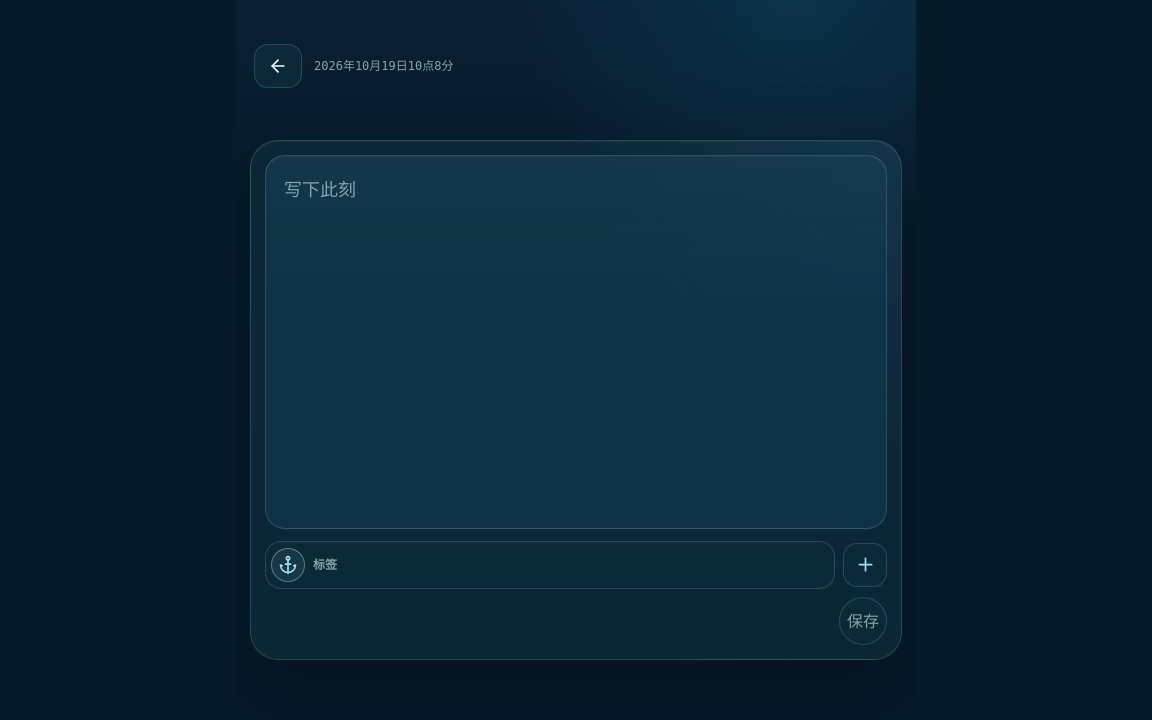
Scenario: Now simulated input integration › explicit clear choice 继续编辑 preserves or clears the draft
The width and height of the screenshot is (1152, 720).
Type "今天主动澄清会议目标，讨论更聚焦。" into the text box named "此刻发生了什么？" at (576, 342), box [284,174,868,510]
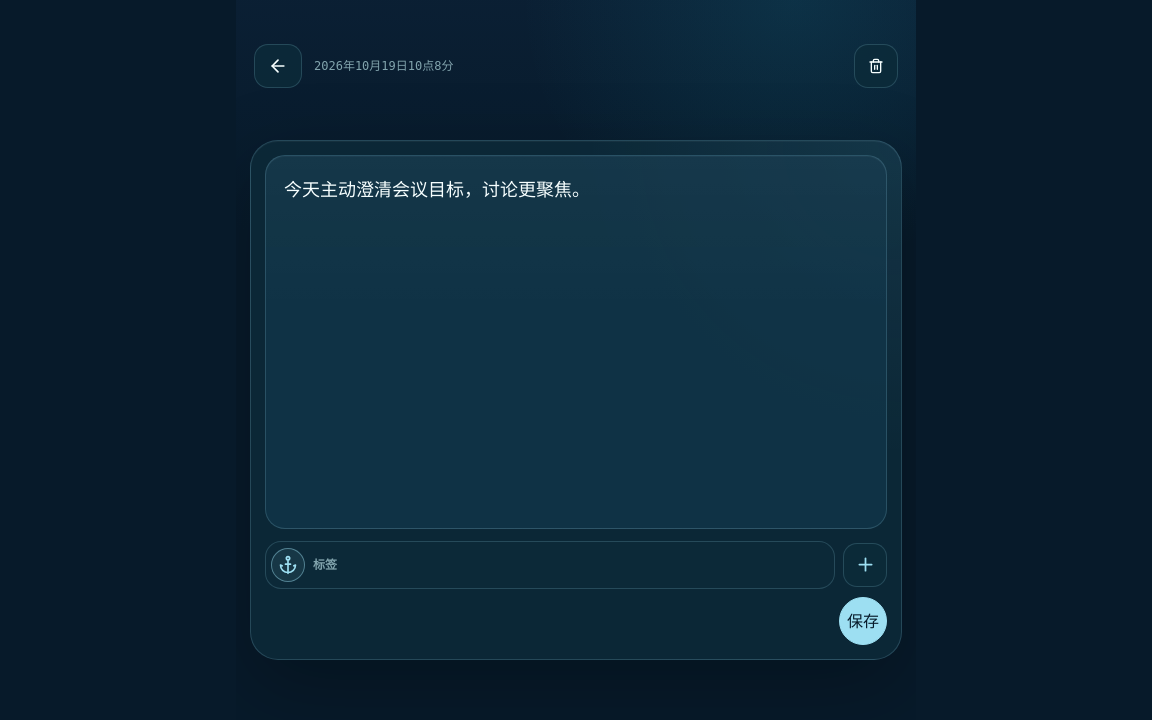
Click the button with aria-label "心情与事件" at (288, 565), box [265,541,835,589]
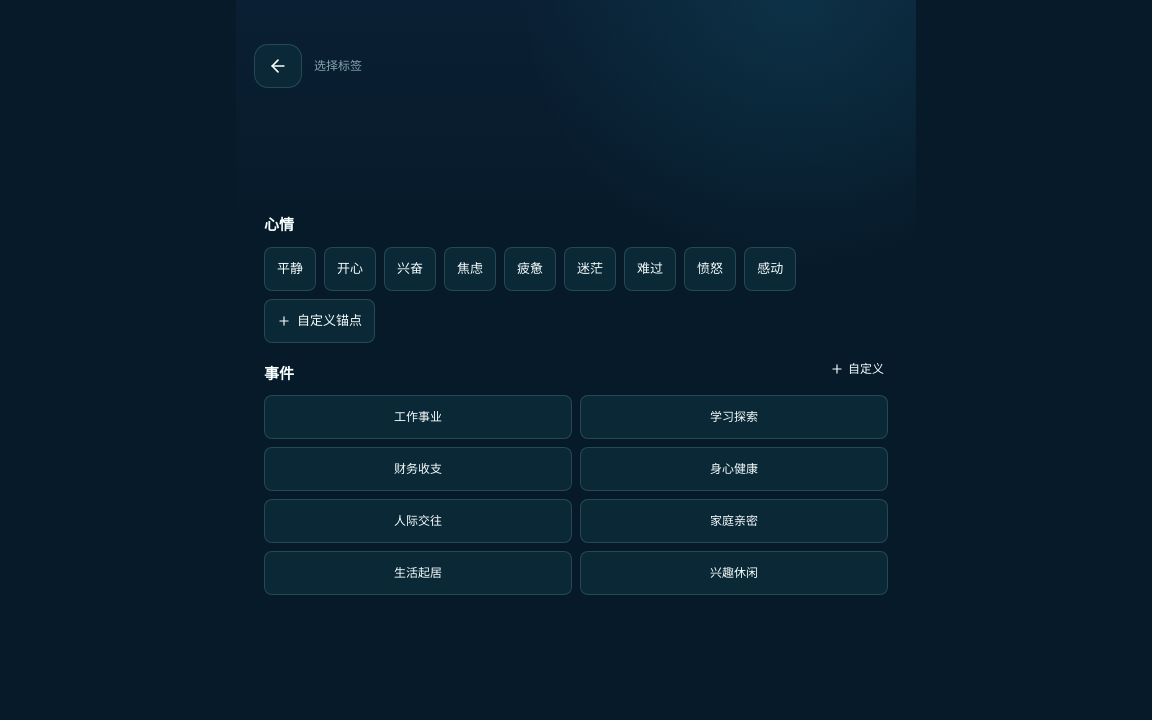
Click the button "工作事业" at (418, 417), box [264,395,572,439]
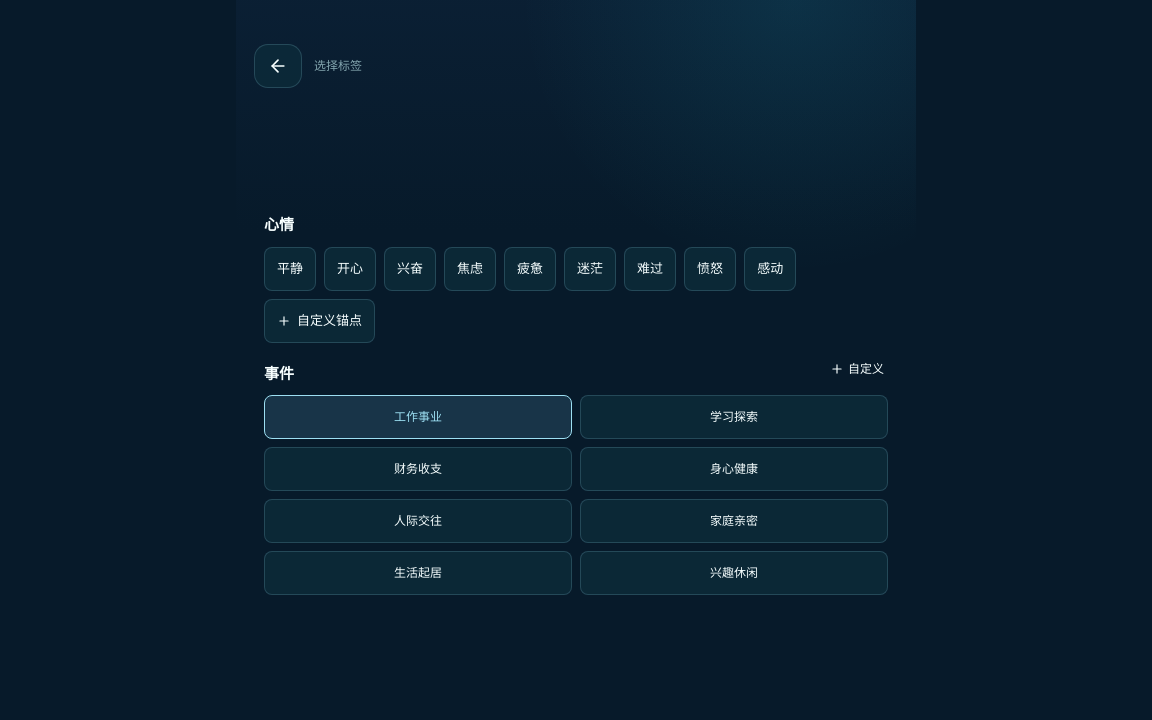
Click the button named "返回" at (278, 66), box [254,44,302,88]
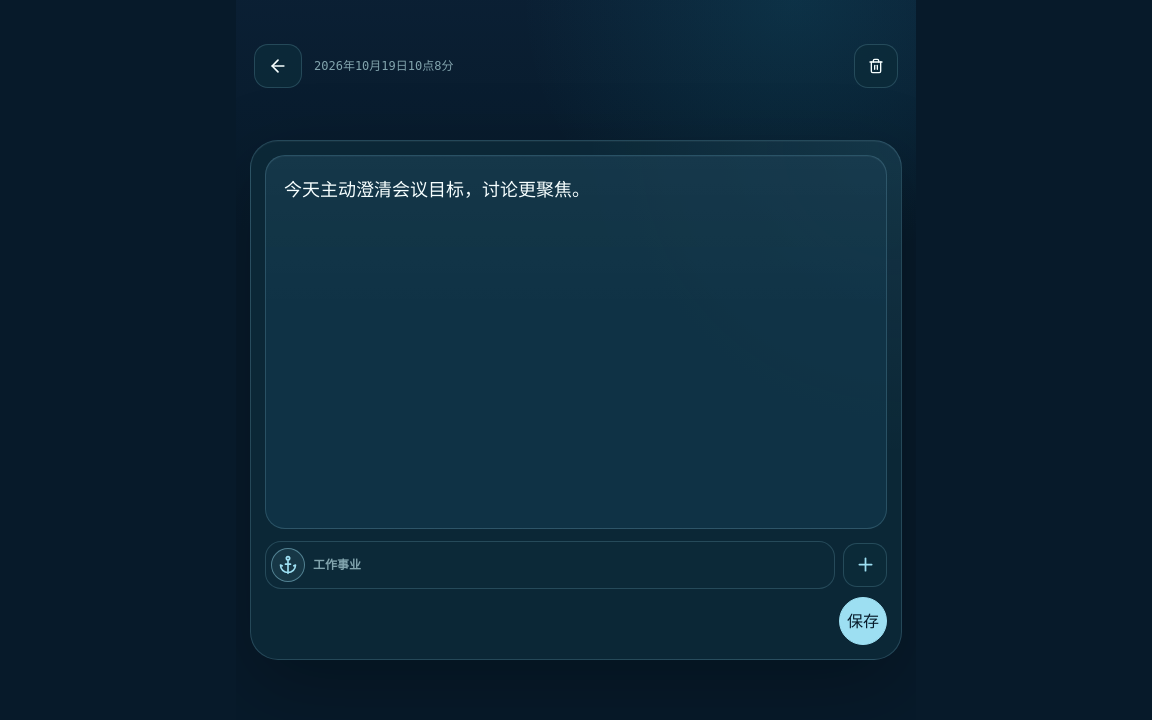
Click the button named "清空草稿" at (876, 66), box [854,44,898,88]
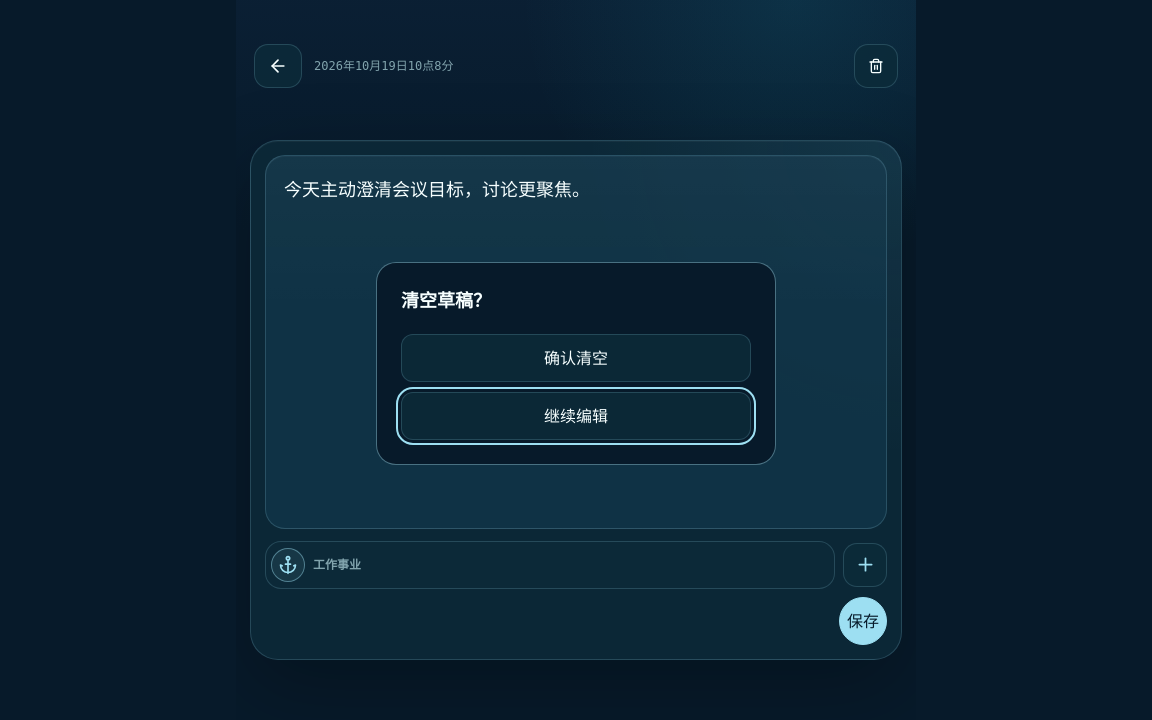
Click the button "继续编辑" at (576, 416), box [401,392,751,440]
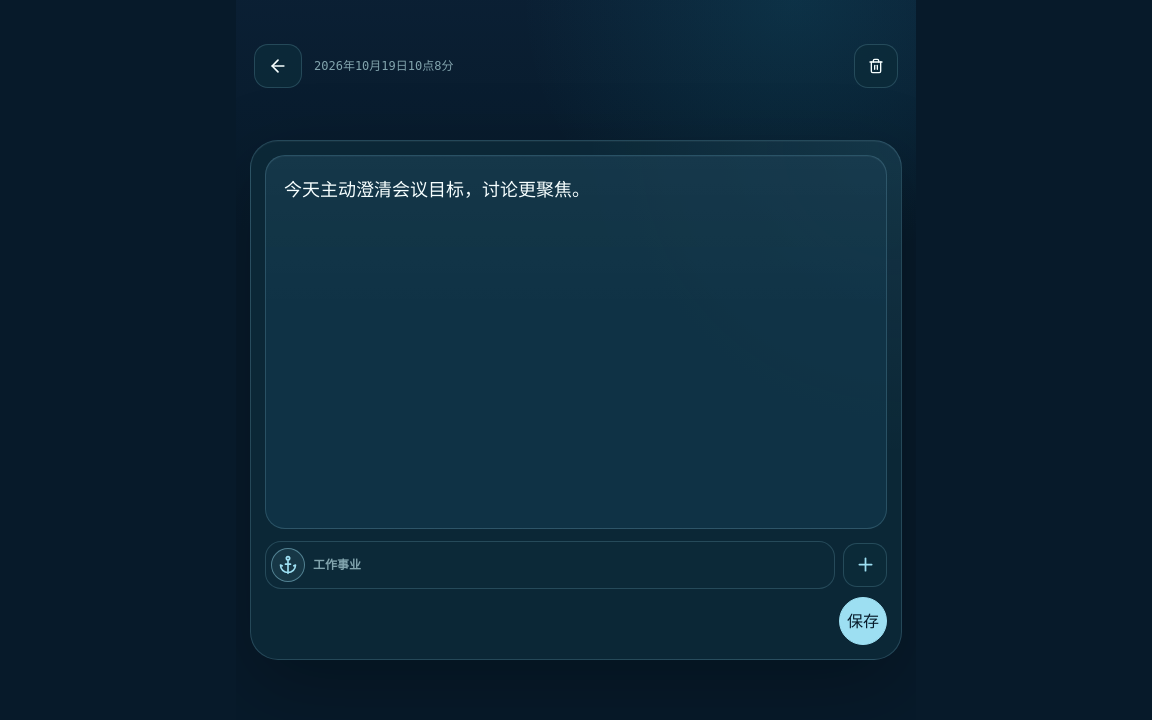
Check: the dialog is gone
